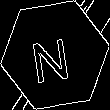N_N: (33, 27, 77, 83)
